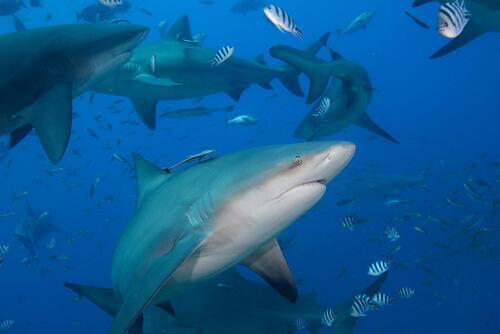shark: (63, 140, 356, 334), (89, 14, 331, 131), (0, 23, 151, 165), (142, 263, 389, 334), (269, 44, 400, 145)
